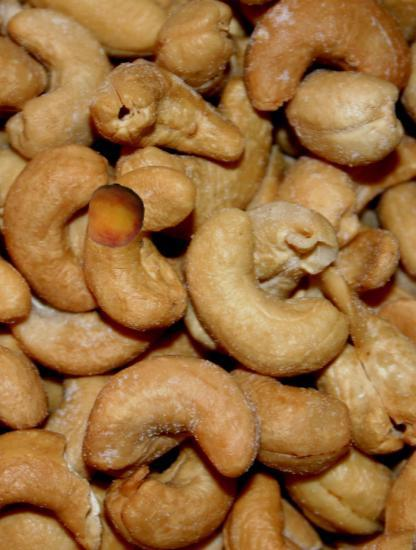Peach: (84, 184, 149, 249)
